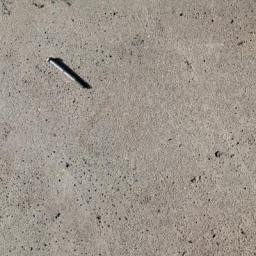FOD: (45, 53, 91, 94)
